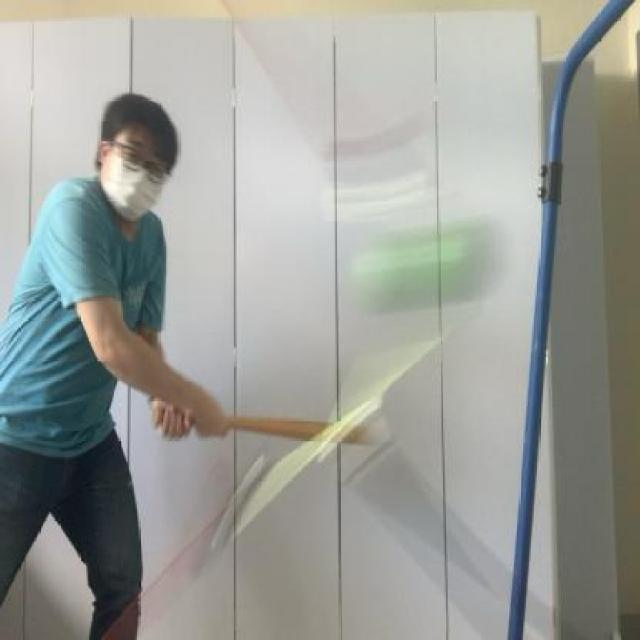baseball: (347, 215, 510, 307)
